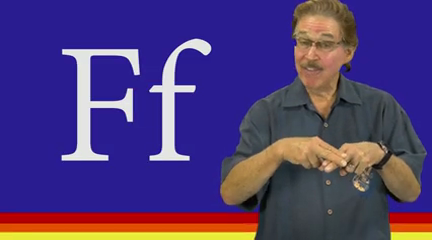F: (270, 124, 372, 185)
